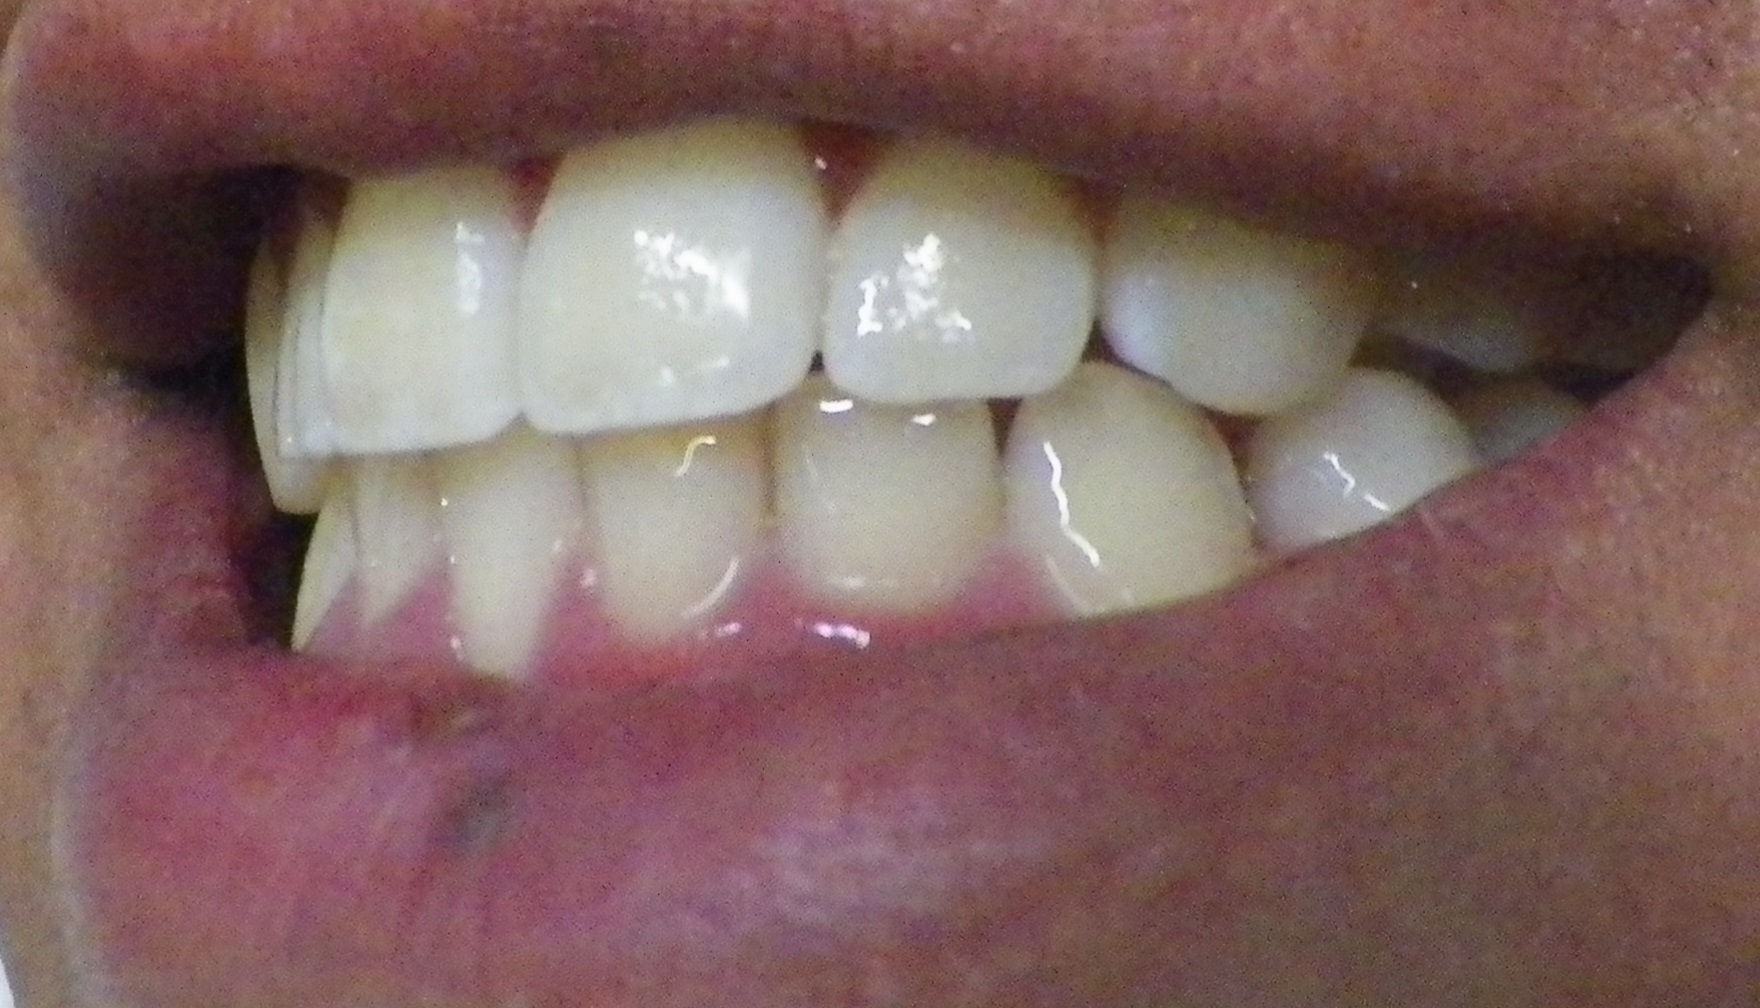boca: (230, 126, 1577, 665)
